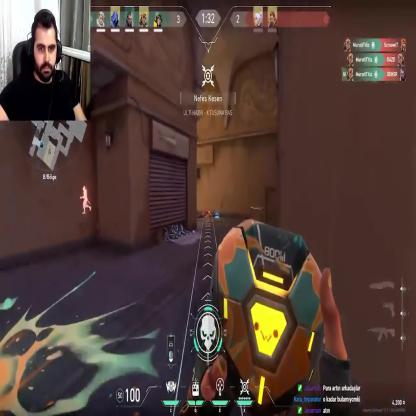enemy: (80, 184, 92, 215)
enemy_head: (82, 185, 85, 191)
